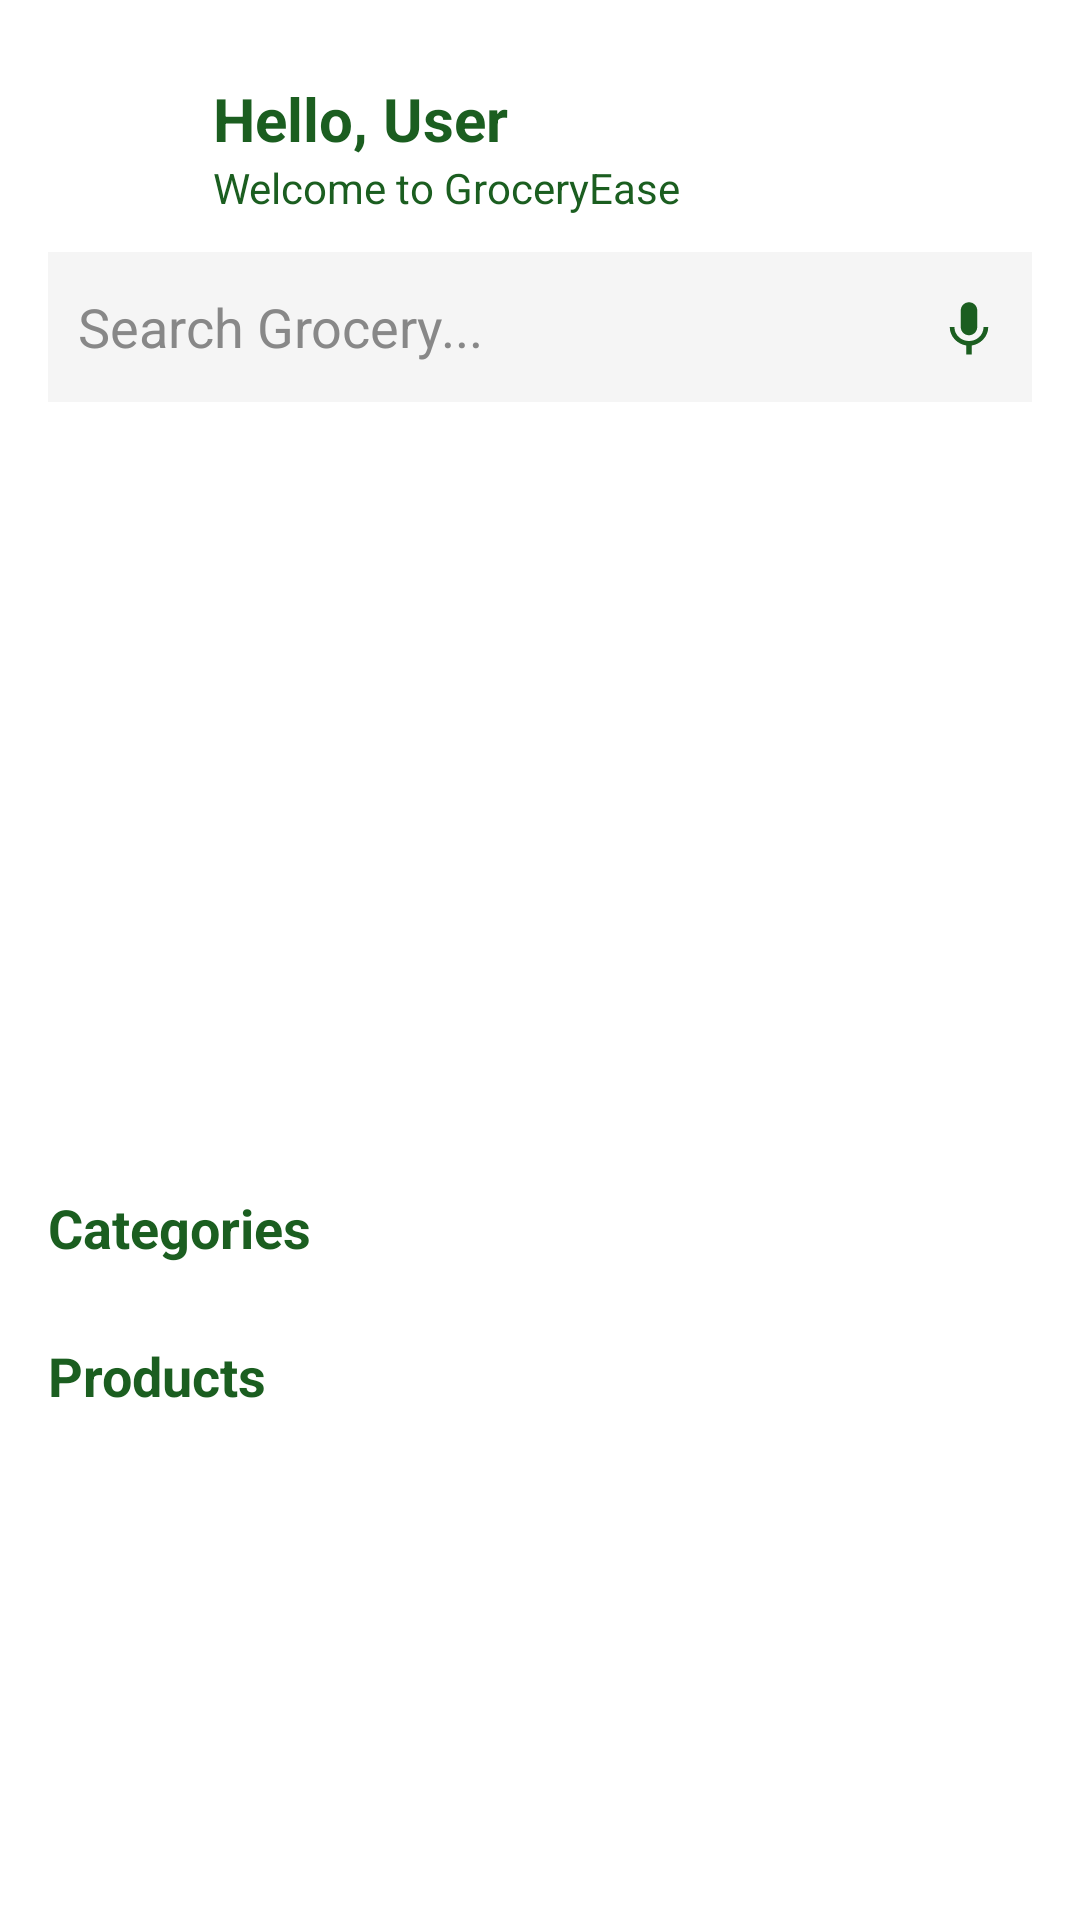

Locate icon controls on the screen. Image size 1080x1920, boxes as (x1, y1, x2, y2).
mic: (949, 302, 989, 355)
